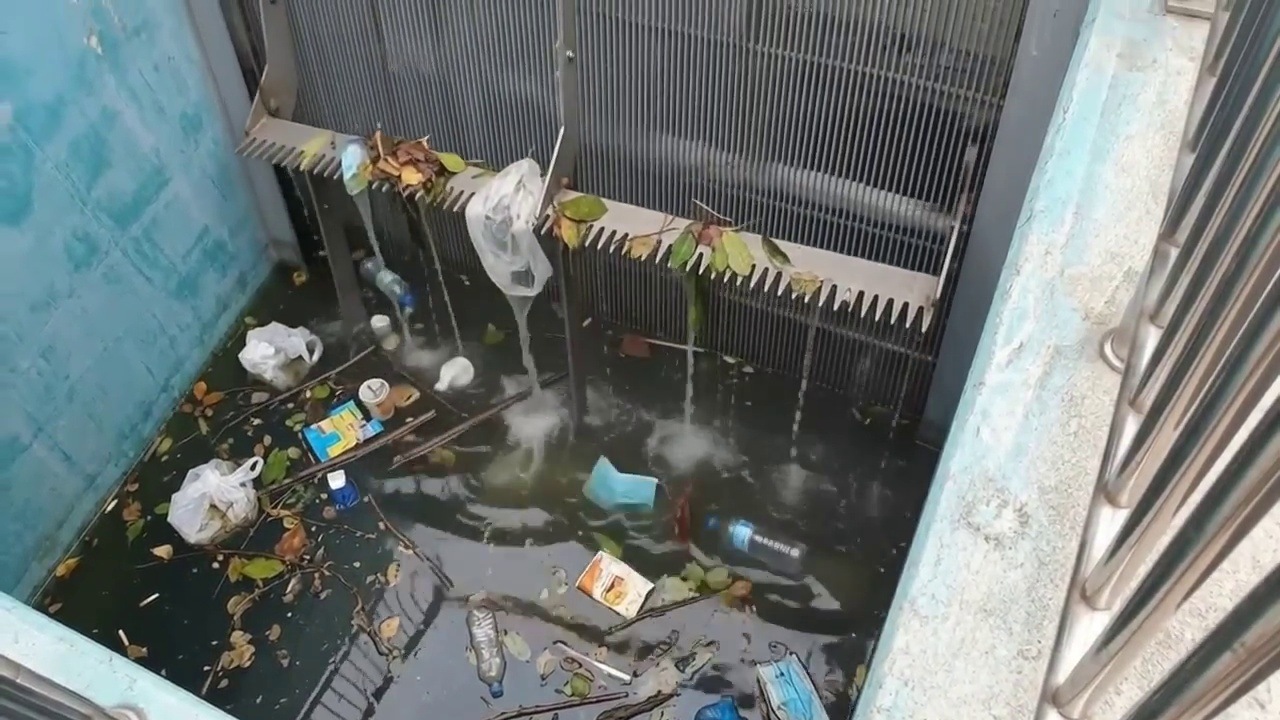debris: (304, 378, 415, 508), (169, 457, 268, 545), (344, 138, 463, 195), (706, 516, 806, 574), (238, 322, 322, 390), (576, 551, 655, 619), (669, 221, 760, 278), (758, 651, 828, 719), (467, 160, 539, 222), (584, 456, 658, 509), (468, 610, 505, 696), (554, 194, 607, 244), (368, 257, 411, 311), (627, 225, 668, 258), (435, 357, 474, 390), (761, 238, 790, 269)
